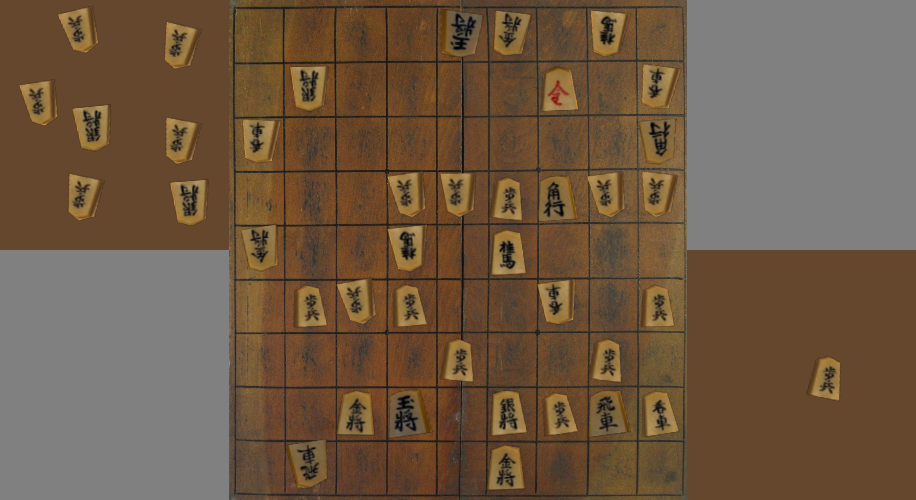A: (484, 440, 539, 497), (437, 332, 490, 386), (588, 331, 640, 385), (486, 223, 537, 278), (387, 388, 437, 442), (589, 388, 639, 442), (538, 169, 587, 224), (636, 278, 684, 334), (335, 388, 387, 439), (538, 388, 588, 441), (485, 388, 538, 437), (284, 279, 334, 330), (538, 62, 587, 114), (387, 279, 436, 331), (638, 387, 683, 441)
B: (333, 279, 387, 334), (228, 226, 285, 277), (436, 171, 489, 224), (385, 171, 437, 224), (383, 224, 436, 276), (536, 279, 589, 331), (486, 6, 536, 61), (438, 5, 487, 61), (586, 7, 636, 61), (637, 115, 686, 170), (284, 63, 334, 115), (587, 171, 637, 223), (638, 61, 685, 114), (284, 439, 331, 492), (489, 171, 535, 225), (234, 118, 283, 168), (636, 169, 681, 222)
C: (805, 351, 846, 404)
D: (54, 6, 103, 58), (163, 175, 212, 226), (157, 18, 203, 71), (68, 102, 115, 151), (16, 78, 62, 127), (159, 114, 198, 164), (64, 170, 100, 220)
